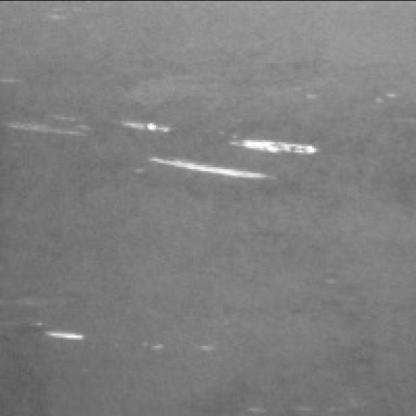scratches: (119, 123, 316, 187), (29, 320, 87, 352)
